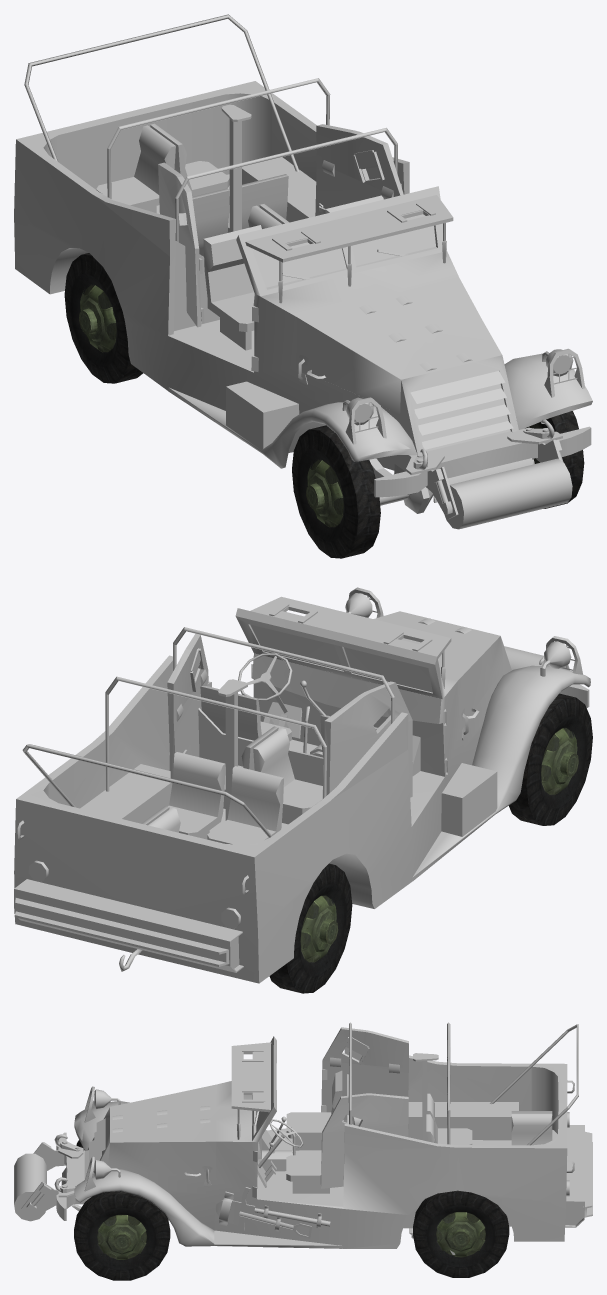
The model's file is WW2_M3A1_Scout_Car.FBX.
3 views of the same model, one above another, from view 1: azimuth 30°, elevation 25°; view 2: azimuth 150°, elevation 25°; view 3: azimuth 270°, elevation 25° (orthographic). The views are drawn at different scales.
Parts seen in each view (by area): view 1: m3a1_body, m3a1_wheel01, m3a1_wheel00, m3a1_doorright, m3a1_doorleft, m3a1_wheel03; view 2: m3a1_body, m3a1_wheel01, m3a1_wheel00, m3a1_doorleft, m3a1_doorright; view 3: m3a1_body, m3a1_wheel03, m3a1_wheel02, m3a1_doorleft, m3a1_doorright.
Part boxes in pixels (left/top/right/bottom): m3a1_body: left=14, top=14, right=592, bottom=529; m3a1_wheel01: left=292, top=425, right=380, bottom=558; m3a1_wheel00: left=64, top=253, right=143, bottom=383; m3a1_doorright: left=315, top=124, right=403, bottom=216; m3a1_doorleft: left=158, top=162, right=204, bottom=327; m3a1_wheel03: left=525, top=411, right=584, bottom=508; m3a1_body: left=14, top=587, right=590, bottom=983; m3a1_wheel01: left=509, top=693, right=592, bottom=825; m3a1_wheel00: left=269, top=863, right=352, bottom=993; m3a1_doorleft: left=324, top=681, right=412, bottom=797; m3a1_doorright: left=167, top=633, right=211, bottom=778; m3a1_body: left=14, top=1022, right=592, bottom=1254; m3a1_wheel03: left=74, top=1191, right=170, bottom=1280; m3a1_wheel02: left=413, top=1190, right=509, bottom=1277; m3a1_doorleft: left=321, top=1027, right=408, bottom=1120; m3a1_doorright: left=320, top=1093, right=408, bottom=1188.
Bounding box in the file's own units: 102 × 98.93 × 278.
